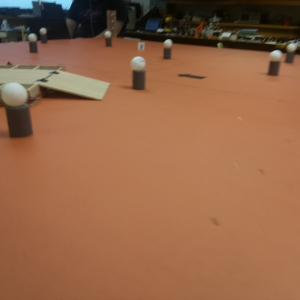obstacle: (1, 81, 35, 141), (130, 54, 148, 91), (267, 48, 281, 76), (24, 30, 40, 52), (285, 42, 297, 64), (163, 38, 173, 60), (39, 26, 48, 43), (104, 30, 113, 47)
slope: (40, 71, 113, 104)
